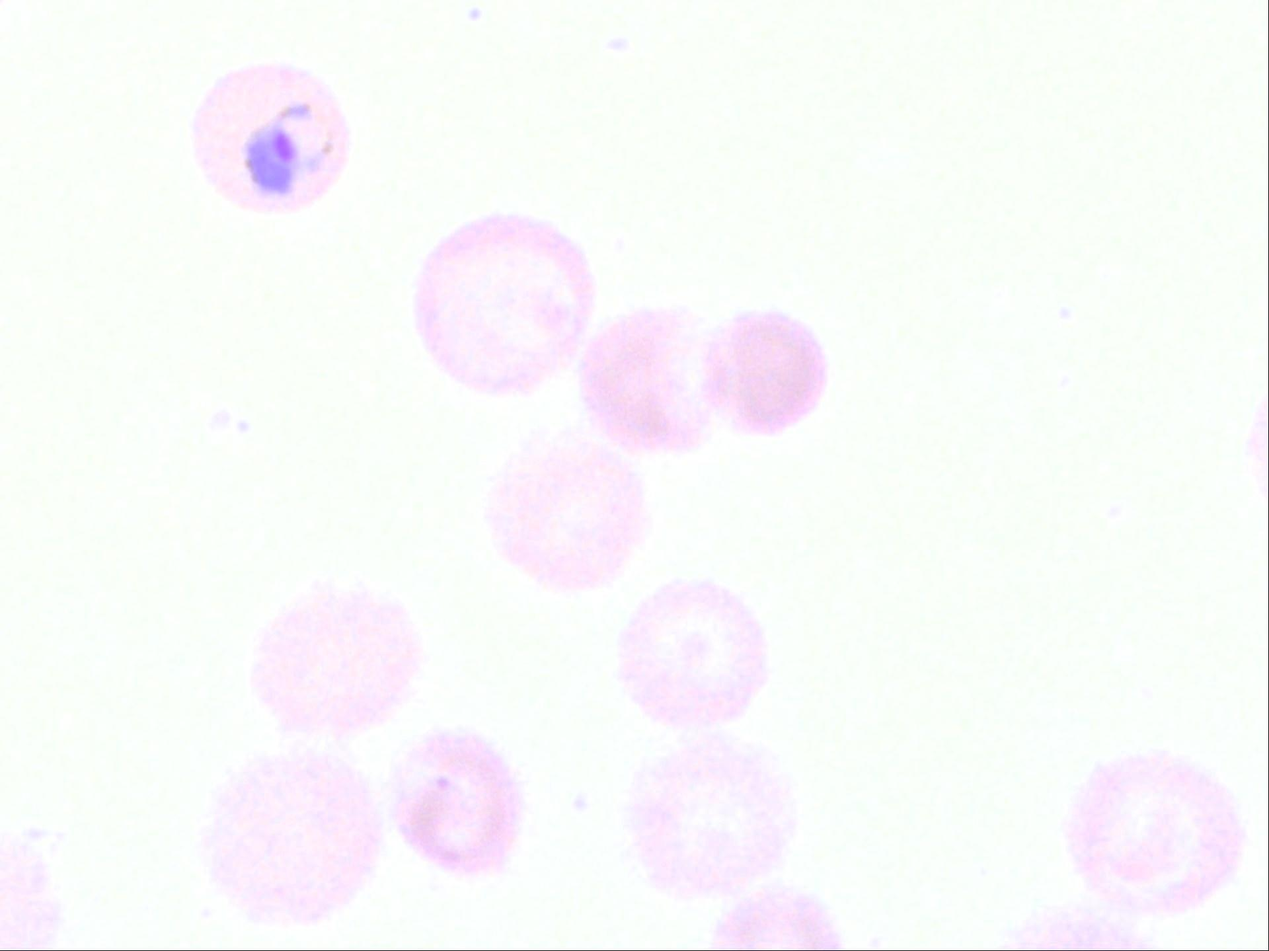Infected: (190, 67, 352, 212)
Uninfected: (415, 213, 593, 392), (203, 752, 379, 919), (1066, 749, 1241, 914), (484, 427, 648, 590), (631, 737, 798, 894), (251, 582, 424, 733), (616, 574, 770, 729), (583, 304, 732, 458), (387, 724, 520, 874), (699, 309, 828, 429)
